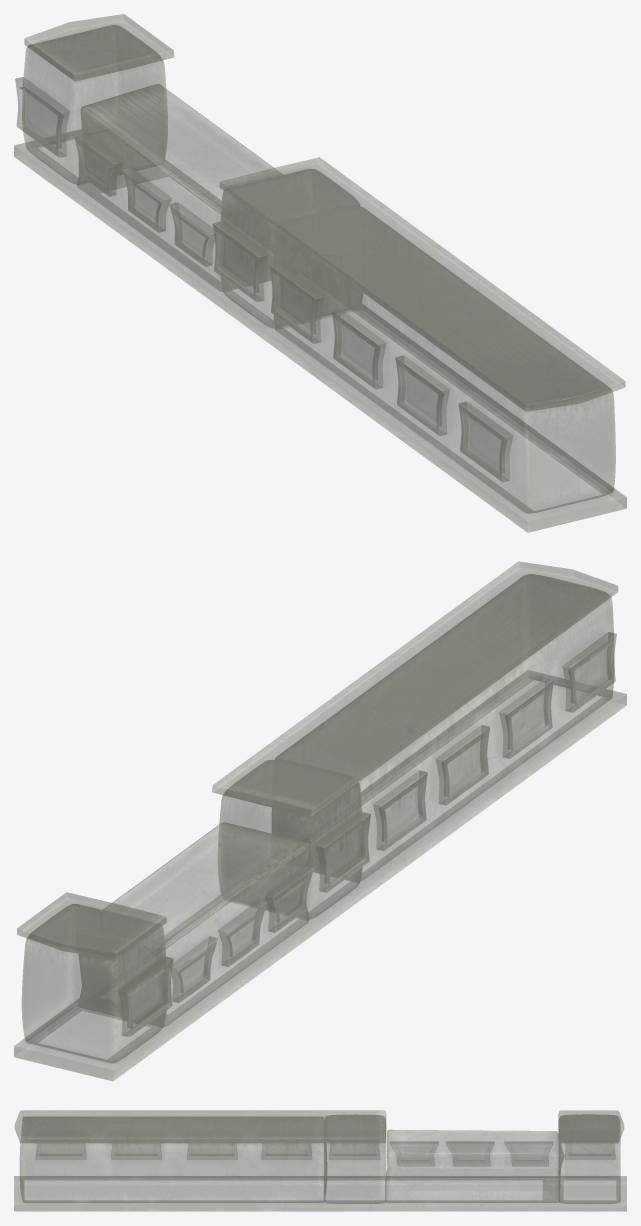
File: Barra_Principal_V1.glb
3 renders of one model, top to bottom at view 1: azimuth 30°, elevation 25°; view 2: azimuth 150°, elevation 25°; view 3: azimuth 270°, elevation 25°, orthographic. The views are drawn at different scales.
Parts seen in each view (by area): view 1: Caja.002, Encimera.001, Borde, Caja_2, Caja.004, Caja.001, Encimera.002, Decoracion_Caja_2.001, Decoracion_Caja_2.003, Decoracion_Caja_2.004, Decoracion_Caja_2.002, Decoracion_Caja_2.005 (+4 smaller); view 2: Caja.002, Encimera.001, Borde, Caja_2, Caja.004, Caja.001, Encimera.002, Decoracion_Caja_2.005, Decoracion_Caja_2.003, Decoracion_Caja_2.001, Decoracion_Caja_2.004, Decoracion_Caja_2.002 (+4 smaller); view 3: Caja.002, Borde, Caja_2, Encimera.001, Caja.004, Caja.001, Encimera.002, Decoracion_Caja.001, Decoracion_Caja.002, Decoracion_Caja.
Part boxes in pixels (box(x1,y1,x2,y2)): Caja.002: box(274, 206, 615, 513); Encimera.001: box(219, 157, 625, 411); Borde: box(14, 129, 626, 532); Caja_2: box(77, 84, 282, 291); Caja.004: box(22, 25, 167, 183); Caja.001: box(219, 169, 362, 327); Encimera.002: box(24, 14, 173, 81); Decoracion_Caja_2.001: box(213, 221, 266, 301); Decoracion_Caja_2.003: box(459, 401, 512, 481); Decoracion_Caja_2.004: box(395, 355, 449, 435); Decoracion_Caja_2.002: box(269, 263, 323, 343); Decoracion_Caja_2.005: box(332, 309, 385, 389); Caja.002: box(272, 574, 614, 880); Encimera.001: box(212, 561, 617, 816); Borde: box(14, 670, 626, 1080); Caja_2: box(78, 822, 309, 1026); Caja.004: box(22, 904, 167, 1062); Caja.001: box(218, 760, 363, 918); Encimera.002: box(17, 892, 166, 958); Decoracion_Caja_2.005: box(435, 725, 489, 805); Decoracion_Caja_2.003: box(562, 632, 616, 712); Decoracion_Caja_2.001: box(316, 812, 370, 892); Decoracion_Caja_2.004: box(499, 678, 553, 758); Decoracion_Caja_2.002: box(373, 770, 427, 850); Caja.002: box(20, 1117, 326, 1202); Borde: box(14, 1176, 626, 1211); Caja_2: box(386, 1130, 564, 1202); Encimera.001: box(15, 1110, 385, 1142); Caja.004: box(559, 1114, 620, 1203); Caja.001: box(324, 1114, 385, 1203); Encimera.002: box(558, 1110, 623, 1142); Decoracion_Caja.001: box(504, 1141, 552, 1165); Decoracion_Caja.002: box(446, 1141, 494, 1162); Decoracion_Caja: box(390, 1141, 438, 1160).
Bounding box in the file's own units: 0.8681 × 0.9268 × 6.98.
Materials: 3 (3 with a texture image).
